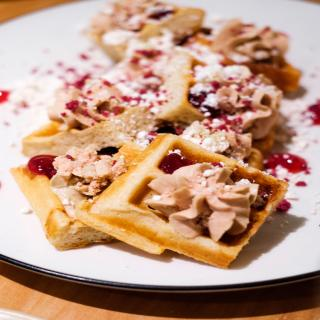Waffle: (6, 0, 305, 269)
